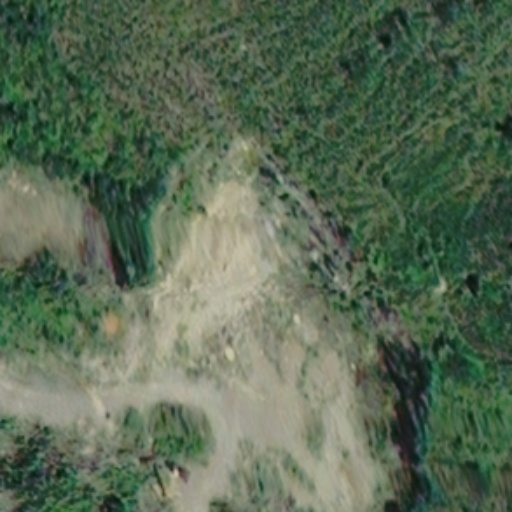landslide: (125, 171, 380, 490)
